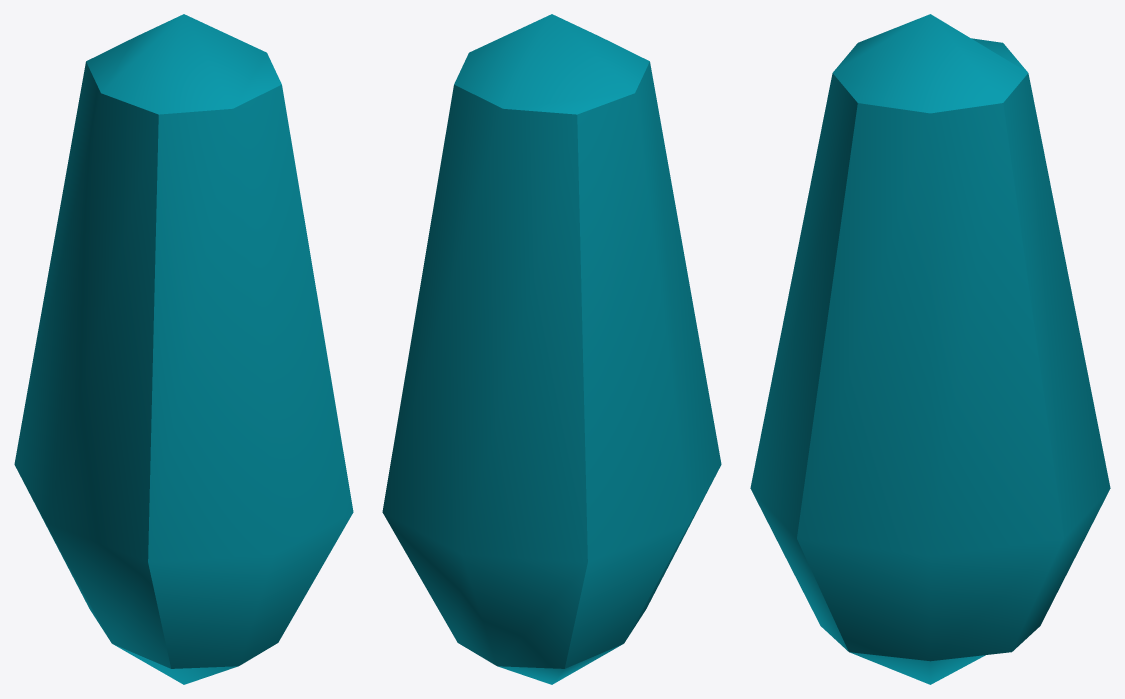
File: Crystal_single.fbx
3 renders of one model, left to right at view 1: azimuth 30°, elevation 25°; view 2: azimuth 150°, elevation 25°; view 3: azimuth 270°, elevation 25°, orthographic.
Visible parts, largest first — view 1: Floating_Crystal; view 2: Floating_Crystal; view 3: Floating_Crystal.
Part boxes in pixels (x1,y1,x2,y2): Floating_Crystal: (14,14,353,684); Floating_Crystal: (382,14,721,684); Floating_Crystal: (750,14,1110,684).
Bounding box in the file's own units: 0.5324 × 1.23 × 0.5998.
